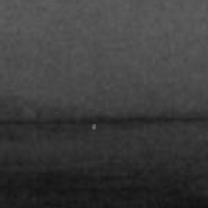Target: (91, 123, 97, 130)
